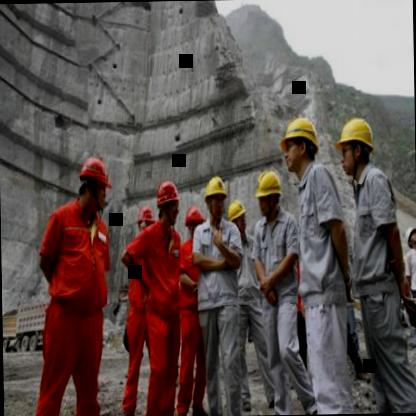helmet: (277, 112, 322, 181), (334, 112, 377, 180), (74, 150, 112, 214), (154, 176, 182, 229), (254, 168, 282, 218), (199, 172, 227, 221), (224, 198, 250, 238), (185, 203, 206, 245), (135, 204, 157, 244), (402, 221, 416, 251)
